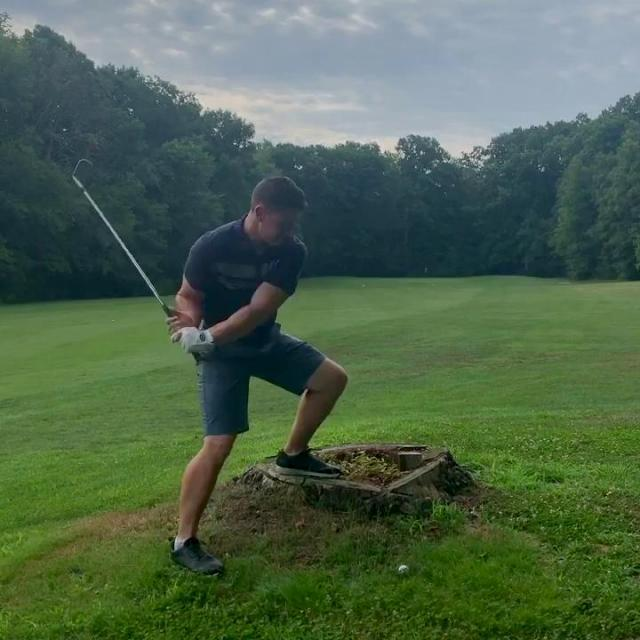ClubHead: (73, 158, 94, 183)
GolfBall: (396, 564, 408, 576)
